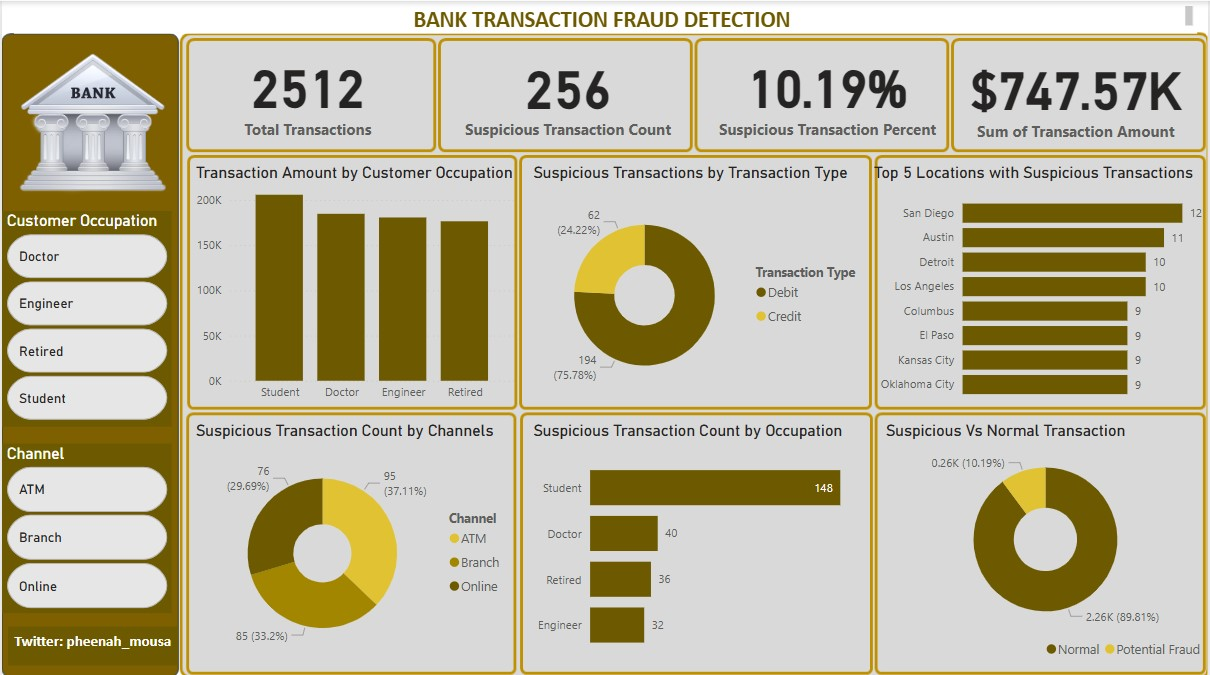

What the dashboard file says about the page in this screenshot:
{"tool":"powerbi","page":{"name":"Page 1","canvas":[1280,720],"ordinal":0},"visuals":[{"type":"card","fields":{"Values":["Bank Transactions Fraud Cleaned.Total Transactions"]},"box":[214.7,36.5,218.7,121.5],"z":0},{"type":"card","fields":{"Values":["Bank Transactions Fraud Cleaned.Suspicious Transaction Count"]},"box":[469.2,36.6,262.5,122.5],"z":1000},{"type":"clusteredColumnChart","title":"Transaction Amount by Customer Occupation","fields":{"Category":["Bank Transactions Fraud Cleaned.Customer Occupation"],"Y":["Bank Transactions Fraud Cleaned.Transaction Amount by Occupation"]},"box":[200,171.4,348.2,260.7],"z":2000},{"type":"donutChart","title":"Suspicious Transaction Count by Channels","fields":{"Category":["Bank Transactions Fraud Cleaned.Channel"],"Y":["Bank Transactions Fraud Cleaned.Suspicious Transaction Count"]},"box":[200,444.6,348.2,260.7],"z":3000},{"type":"clusteredBarChart","title":"Suspicious Transaction Count by Occupation","fields":{"Category":["Bank Transactions Fraud Cleaned.Customer Occupation"],"Y":["Bank Transactions Fraud Cleaned.Suspicious Transaction Count"]},"box":[558.9,444.6,360.7,260.7],"z":4000},{"type":"donutChart","title":"Suspicious Transactions by Transaction Type","fields":{"Category":["Bank Transactions Fraud Cleaned.Transaction Type"],"Y":["Bank Transactions Fraud Cleaned.Suspicious Transaction Count"]},"box":[558.9,171.4,360.7,260.7],"z":5000},{"type":"barChart","title":"Top 5 Locations with Suspicious Transactions","fields":{"Category":["Bank Transactions Fraud Cleaned.Location"],"Y":["Bank Transactions Fraud Cleaned.Suspicious Transaction Count"]},"box":[918.9,171.8,361.1,260.9],"z":6000},{"type":"card","fields":{"Values":["Bank Transactions Fraud Cleaned.Percentage of Suspicious Transaction"]},"box":[739.2,36.5,271.4,121.5],"z":7000},{"type":"card","fields":{"Values":["Sum(Bank Transactions Fraud Cleaned.Transaction Amount)"]},"box":[1010.7,37.5,257.1,121.4],"z":8000},{"type":"donutChart","title":"Suspicious Vs Normal Transaction","fields":{"Category":["Bank Transactions Fraud Cleaned.Potential Anomaly"],"Y":["CountNonNull(Bank Transactions Fraud Cleaned.Potential Anomaly)"]},"box":[932.1,444.6,348.2,260.7],"z":9000},{"type":"textbox","box":[12.7,0,1255,35],"z":10000},{"type":"advancedSlicerVisual","fields":{"Values":["Bank Transactions Fraud Cleaned.Customer Occupation"]},"box":[0,222.8,180.3,228.9],"z":11000},{"type":"image","box":[12.7,41.4,167,178.1],"z":12000},{"type":"textbox","box":[6.4,663.3,179.7,41.4],"z":13000},{"type":"advancedSlicerVisual","fields":{"Values":["Bank Transactions Fraud Cleaned.Channel"]},"box":[0,469.9,180.3,180.3],"z":13001}]}

Visuals, with their boxes in screenshot pixels (x1, y1, x2, y2), scaled from the page's 1280x720 canvas onto the 1210x675 screenshot:
card - Bank Transactions Fraud Cleaned.Total Transactions: locate(203, 34, 410, 148)
card - Bank Transactions Fraud Cleaned.Suspicious Transaction Count: locate(444, 34, 692, 149)
"Transaction Amount by Customer Occupation" clusteredColumnChart: locate(189, 161, 518, 405)
"Suspicious Transaction Count by Channels" donutChart: locate(189, 417, 518, 661)
"Suspicious Transaction Count by Occupation" clusteredBarChart: locate(528, 417, 869, 661)
"Suspicious Transactions by Transaction Type" donutChart: locate(528, 161, 869, 405)
"Top 5 Locations with Suspicious Transactions" barChart: locate(869, 161, 1209, 406)
card - Bank Transactions Fraud Cleaned.Percentage of Suspicious Transaction: locate(699, 34, 955, 148)
card - Sum(Bank Transactions Fraud Cleaned.Transaction Amount): locate(955, 35, 1198, 149)
"Suspicious Vs Normal Transaction" donutChart: locate(881, 417, 1209, 661)
textbox: locate(12, 0, 1198, 33)
advancedSlicerVisual - Bank Transactions Fraud Cleaned.Customer Occupation: locate(0, 209, 170, 423)
image: locate(12, 39, 170, 206)
textbox: locate(6, 622, 176, 661)
advancedSlicerVisual - Bank Transactions Fraud Cleaned.Channel: locate(0, 441, 170, 610)
